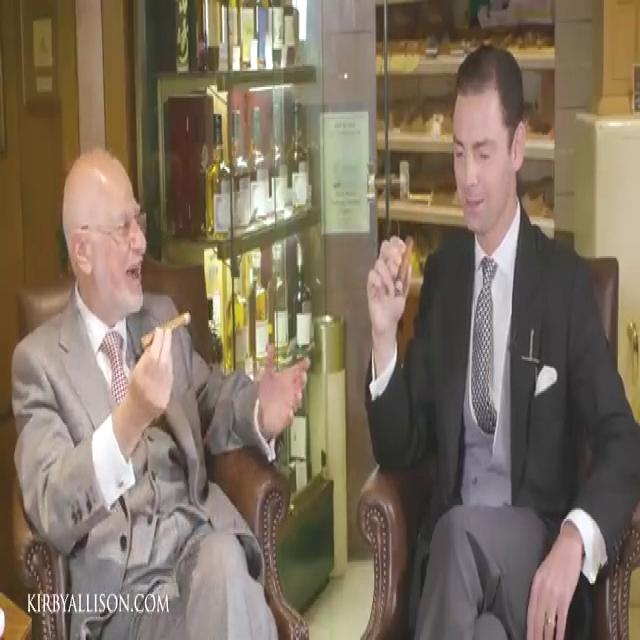Smooking: (137, 304, 204, 365), (393, 222, 418, 312)
